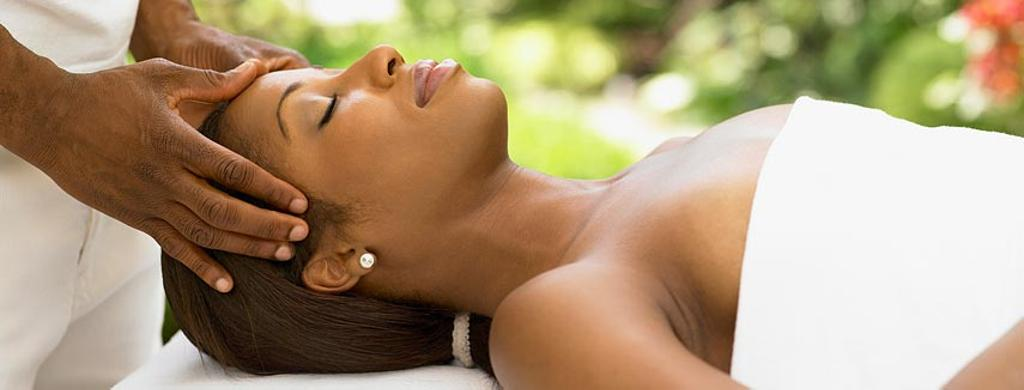face: (246, 42, 506, 162)
